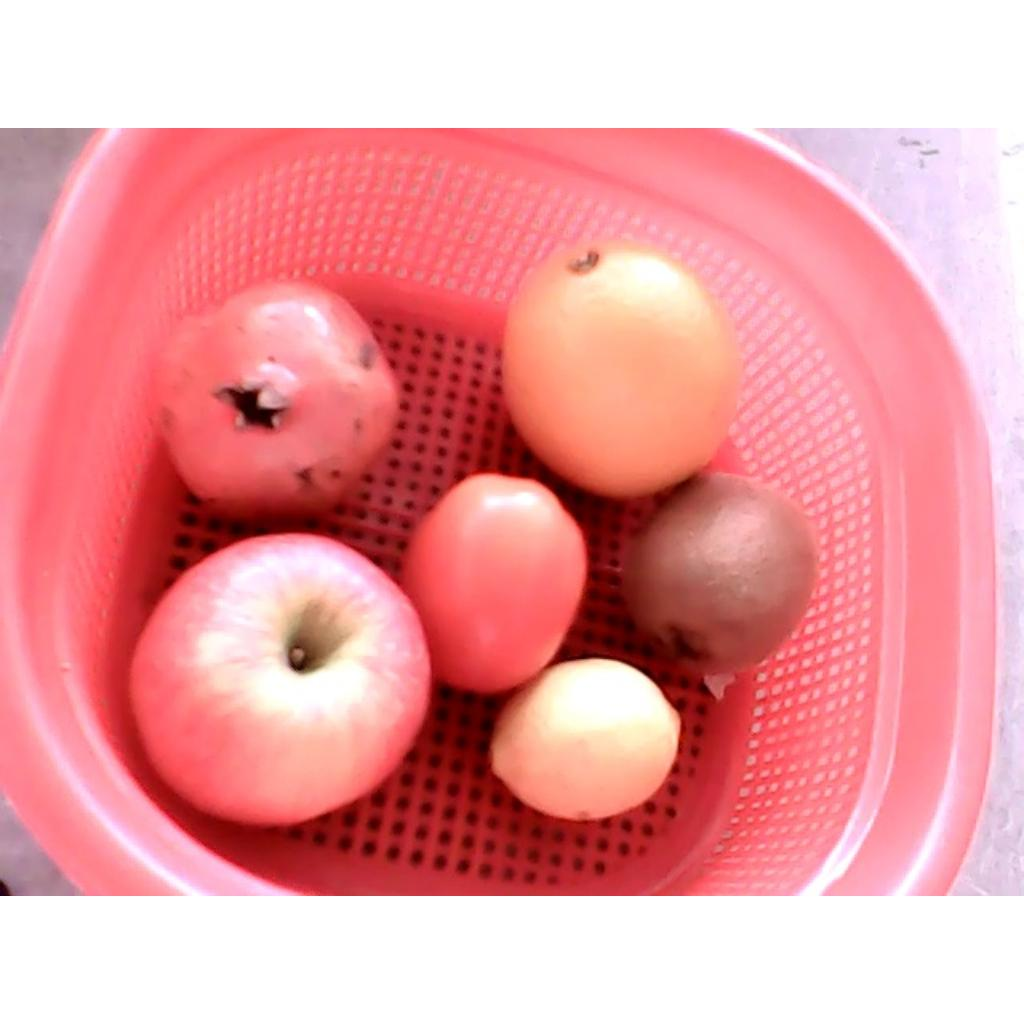apple: (128, 530, 433, 823)
kiwi: (624, 473, 819, 676)
lemon: (489, 657, 682, 817)
orange: (499, 238, 739, 495)
pomegranate: (145, 276, 400, 513)
tomato: (396, 472, 588, 693)
